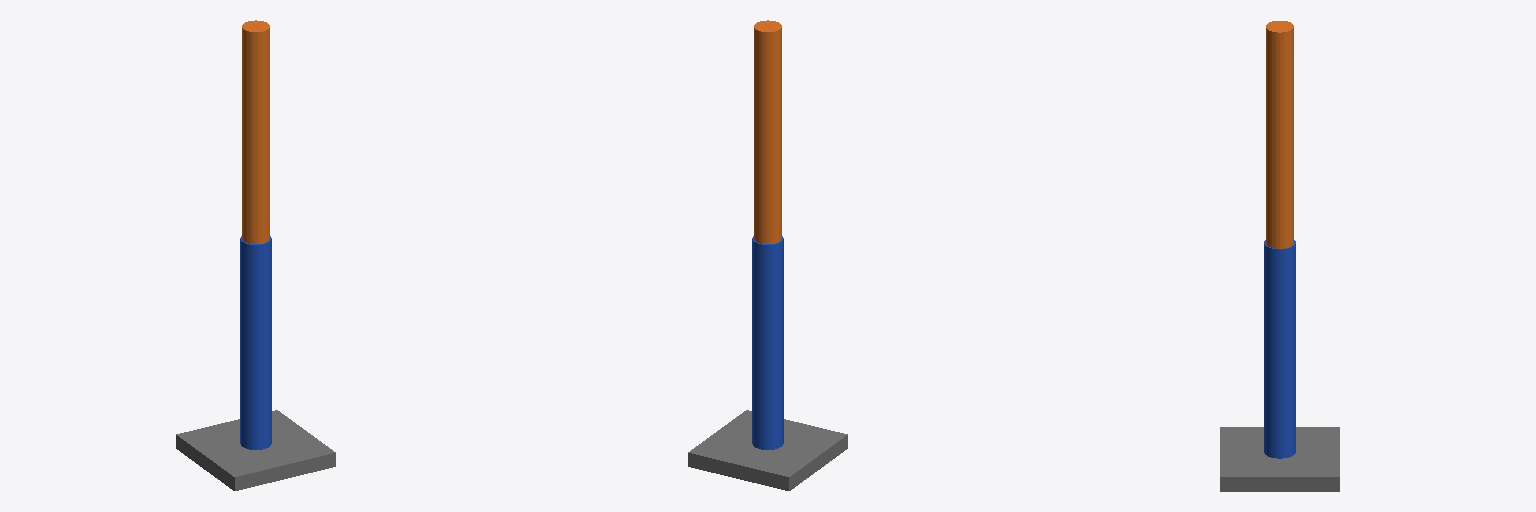
The robot description file, URDF, robot "robomesh_two_link":
<?xml version="1.0"?>
<robot name="robomesh_two_link">
  <link name="base_link">
    <visual>
      <origin xyz="0 0 0" rpy="0 0 0"/>
      <geometry>
        <box size="0.15 0.15 0.02"/>
      </geometry>
      <material name="base_gray">
        <color rgba="0.5 0.5 0.5 1"/>
      </material>
    </visual>
  </link>

  <link name="upper_link">
    <visual>
      <origin xyz="0 0 0.15" rpy="0 0 0"/>
      <geometry>
        <cylinder radius="0.02" length="0.3"/>
      </geometry>
      <material name="blue">
        <color rgba="0.2 0.4 0.8 1"/>
      </material>
    </visual>
  </link>

  <link name="forearm_link">
    <visual>
      <origin xyz="0 0 0.15" rpy="0 0 0"/>
      <geometry>
        <cylinder radius="0.018" length="0.3"/>
      </geometry>
      <material name="orange">
        <color rgba="0.9 0.5 0.2 1"/>
      </material>
    </visual>
  </link>

  <joint name="shoulder" type="revolute">
    <origin xyz="0 0 0" rpy="0 0 0"/>
    <parent link="base_link"/>
    <child link="upper_link"/>
    <axis xyz="0 1 0"/>
    <limit lower="-3.14" upper="3.14" effort="1" velocity="1"/>
  </joint>

  <joint name="elbow" type="revolute">
    <origin xyz="0 0 0.3" rpy="0 0 0"/>
    <parent link="upper_link"/>
    <child link="forearm_link"/>
    <axis xyz="0 1 0"/>
    <limit lower="-3.14" upper="3.14" effort="1" velocity="1"/>
  </joint>
</robot>

--- What the picture shows (computed from the rendered views, not written in the file) ---
The picture shows the robot from 3 angles, left to right: view 1: azimuth 30°, elevation 25°; view 2: azimuth 150°, elevation 25°; view 3: azimuth 270°, elevation 25°; orthographic projection.
Model robomesh_two_link with 3 links and 2 joints (2 revolute), rooted at base_link, posed every joint at zero.
Visible links, largest first — view 1: base_link, upper_link, forearm_link; view 2: base_link, upper_link, forearm_link; view 3: base_link, upper_link, forearm_link.
Boxes of the visible links, x1,y1,x2,y2 form: base_link: [176, 410, 335, 490]; upper_link: [240, 236, 271, 449]; forearm_link: [242, 20, 269, 243]; base_link: [688, 410, 847, 490]; upper_link: [752, 236, 783, 449]; forearm_link: [754, 20, 781, 243]; base_link: [1220, 427, 1339, 491]; upper_link: [1264, 240, 1295, 458]; forearm_link: [1266, 21, 1293, 248].
Size in the robot's own frame: 0.15 by 0.15 by 0.61 metres.
Geometry: primitives only (box / cylinder / sphere), no mesh files.